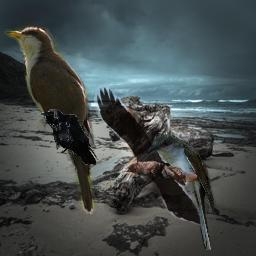Crow: (94, 85, 206, 228), (40, 109, 98, 166)
Cuckoo: (4, 25, 99, 216), (146, 134, 217, 250)
